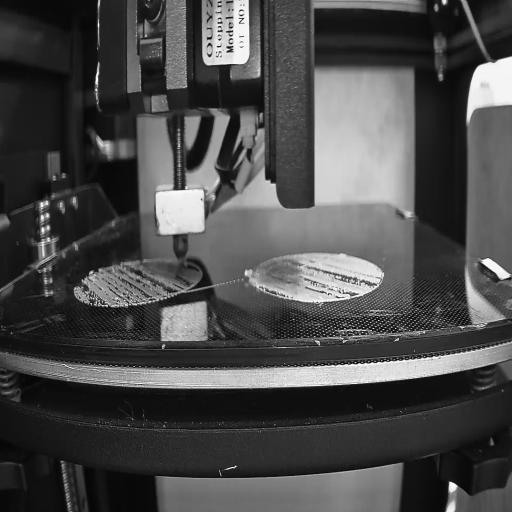under_extrusion: (76, 264, 199, 306), (258, 261, 383, 295)
